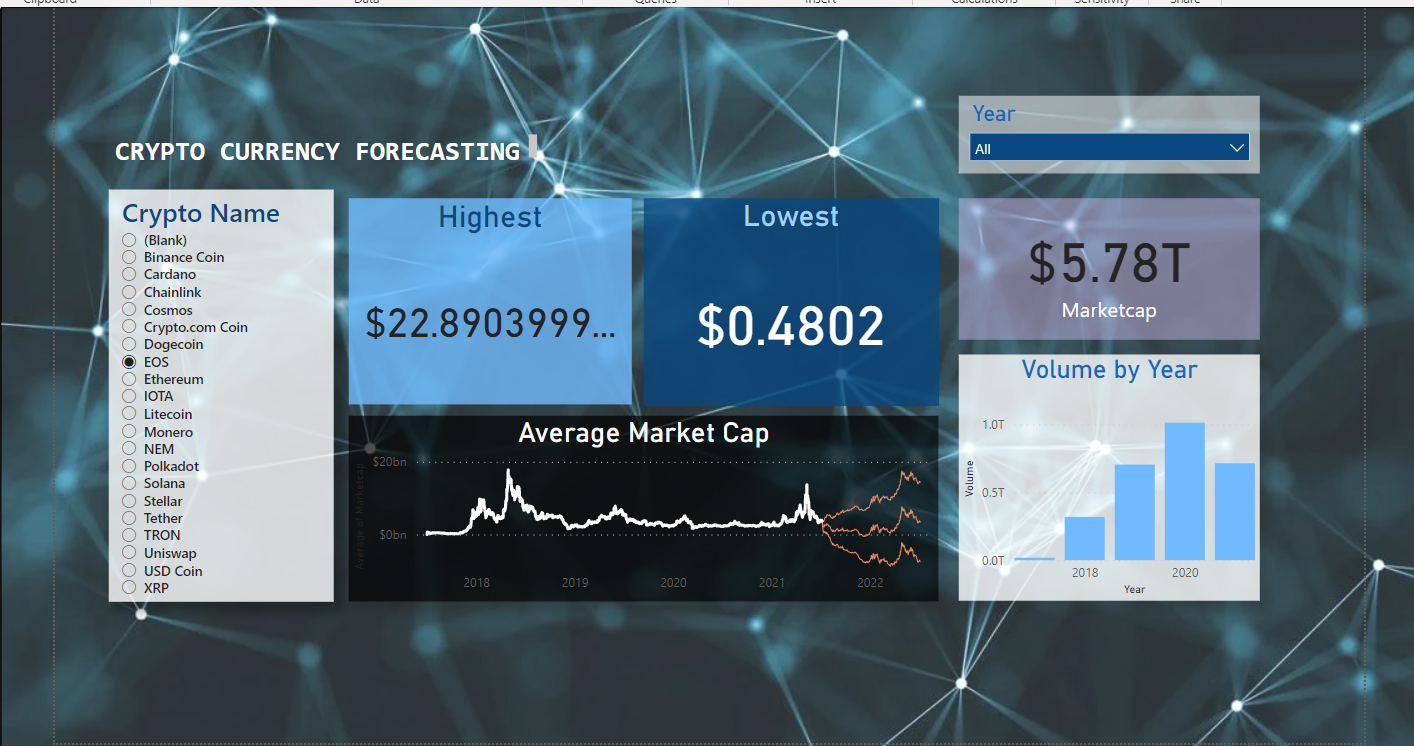

The dashboard page shown, as its layout file describes it:
{"tool":"powerbi","page":{"name":"Page 1","canvas":[1280,720],"ordinal":0},"visuals":[{"type":"slicer","fields":{"Values":["crypto project.Name"]},"box":[52.9,178.6,220,402.9],"z":0},{"type":"card","title":"Highest","fields":{"Values":["Max(crypto project.High)"]},"box":[287.1,187.1,277.1,201.4],"z":1000},{"type":"lineChart","title":"Average Market Cap","fields":{"Y":["Avg(crypto project.Marketcap)"],"Category":["crypto project.Date"]},"box":[287.1,400,577.1,181.4],"z":2000},{"type":"card","fields":{"Values":["Sum(crypto project.Marketcap)"]},"box":[883.8,187,294.6,138.1],"z":3000},{"type":"card","title":"Lowest","fields":{"Values":["Min(crypto project.Low)"]},"box":[575.7,187.1,288.6,202.9],"z":4000},{"type":"textbox","box":[53.3,120,422.7,42.7],"z":5000},{"type":"slicer","fields":{"Values":["crypto project.year"]},"box":[883.8,86.8,294.6,75.8],"z":6000},{"type":"columnChart","fields":{"Category":["crypto project.Date.Variation.Date Hierarchy.Year","crypto project.Date.Variation.Date Hierarchy.Quarter","crypto project.Date.Variation.Date Hierarchy.Month","crypto project.Date.Variation.Date Hierarchy.Day"],"Y":["Sum(crypto project.Volume)"]},"box":[883.8,339.8,294.6,240.8],"z":6001}]}

Visuals, with their boxes in screenshot pixels (x1, y1, x2, y2):
slicer - crypto project.Name: [102,187,327,599]
"Highest" card: [342,195,626,401]
"Average Market Cap" lineChart: [342,413,933,599]
card - Sum(crypto project.Marketcap): [953,195,1254,337]
"Lowest" card: [637,195,933,403]
textbox: [102,127,535,170]
slicer - crypto project.year: [953,93,1254,170]
columnChart - crypto project.Date.Variation.Date Hierarchy.Year x crypto project.Date.Variation.Date Hierarchy.Quarter: [953,352,1254,598]
